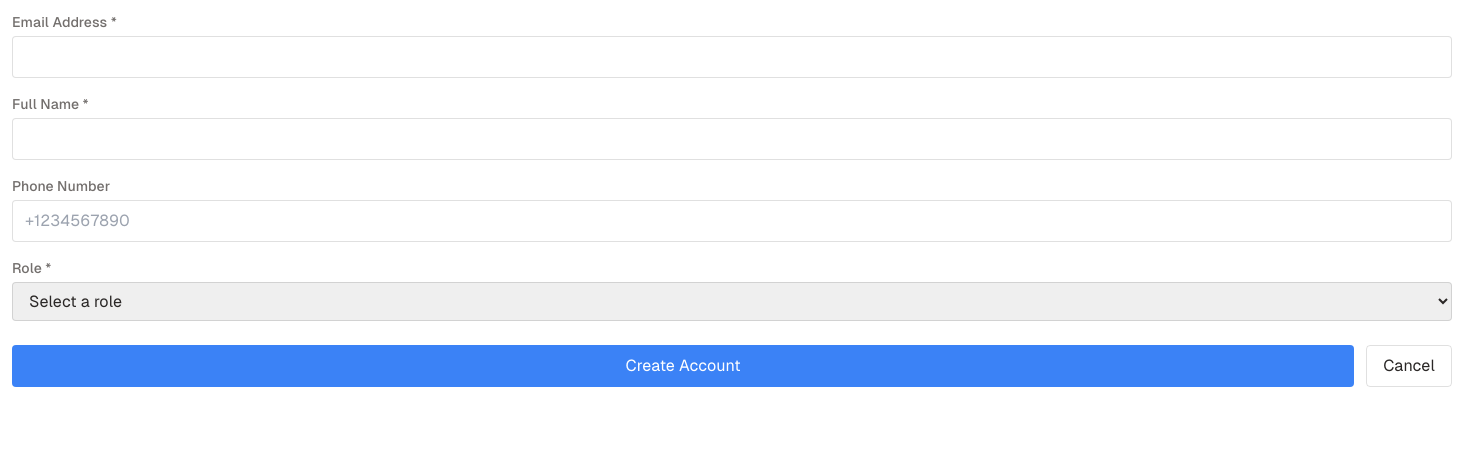
Scenario: Create Account Flow - Integration Test › handles validation errors before submission
// Try to submit without filling fields
Click the button "Create Account": (683, 366) x1=12 y1=345 x2=1354 y2=387
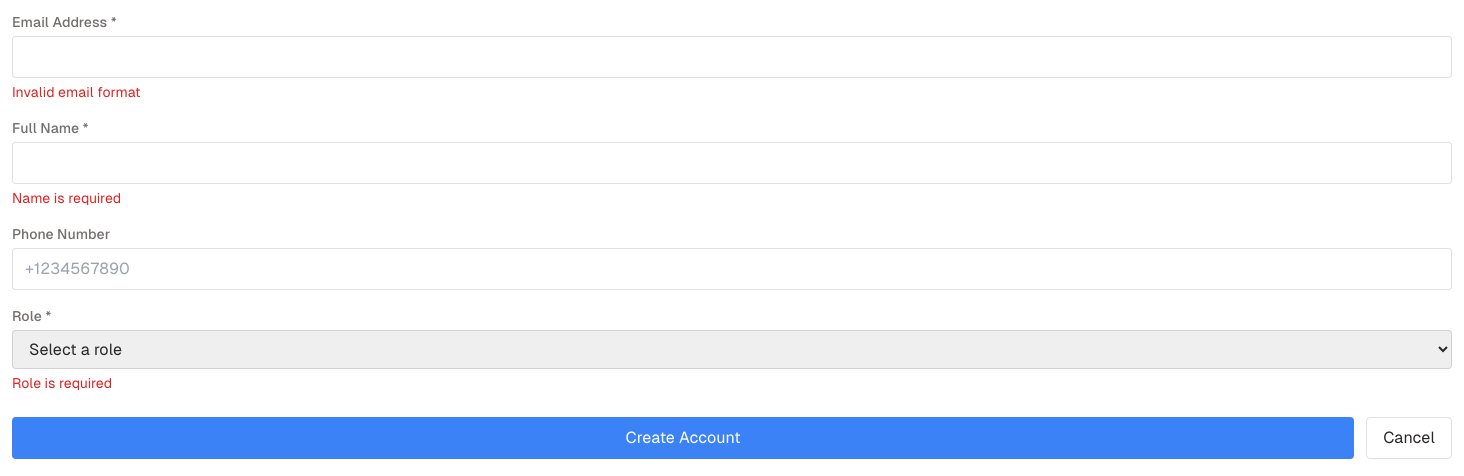
Check: the text "Invalid email format" is shown, box x1=12 y1=84 x2=141 y2=100
Check: the text "Name is required" is shown, box x1=12 y1=190 x2=121 y2=206
Check: the text "Role is required" is shown, box x1=12 y1=375 x2=112 y2=391
